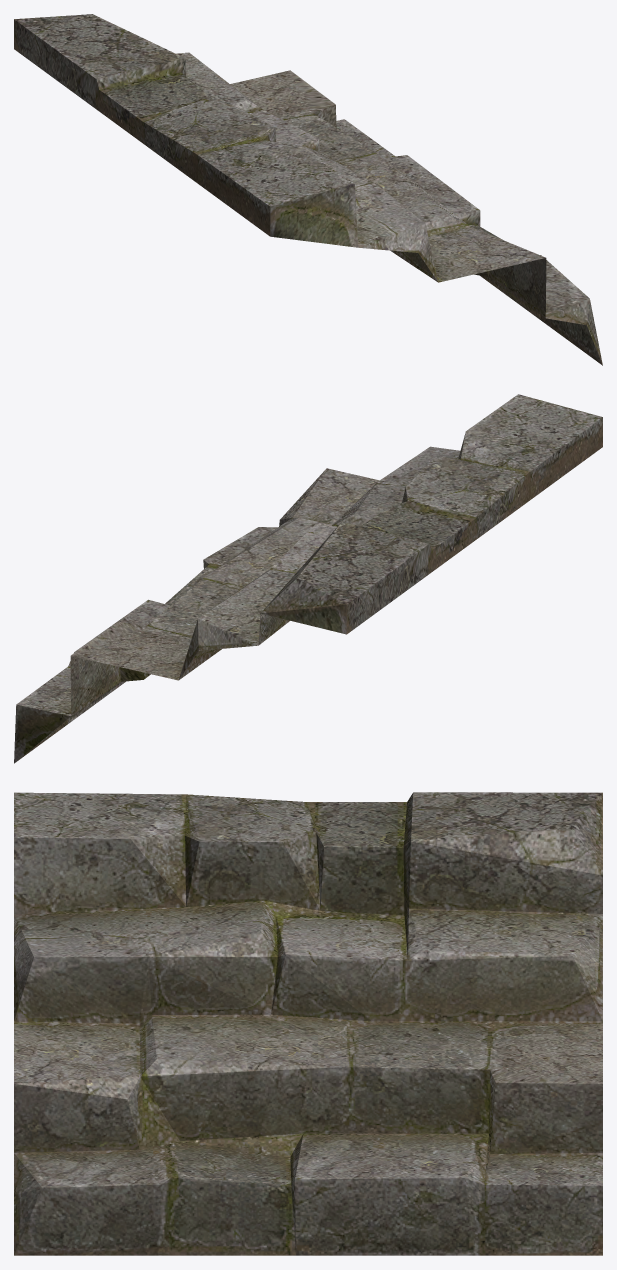
Rendered from bg_anh_etc_sr01_01_sm_old.FBX.
3 renders of one model, top to bottom at view 1: azimuth 30°, elevation 25°; view 2: azimuth 150°, elevation 25°; view 3: azimuth 270°, elevation 25°, orthographic. The views are drawn at different scales.
Visible parts, largest first — view 1: bg_anh_etc_sr01_01_sm_old; view 2: bg_anh_etc_sr01_01_sm_old; view 3: bg_anh_etc_sr01_01_sm_old.
Boxes of the visible parts, box(x1,y1,x2,y2) form: bg_anh_etc_sr01_01_sm_old: box(14, 14, 602, 365); bg_anh_etc_sr01_01_sm_old: box(14, 394, 602, 763); bg_anh_etc_sr01_01_sm_old: box(14, 792, 602, 1255).
Size of the model in its own units: 96.73 by 66.87 by 128.
